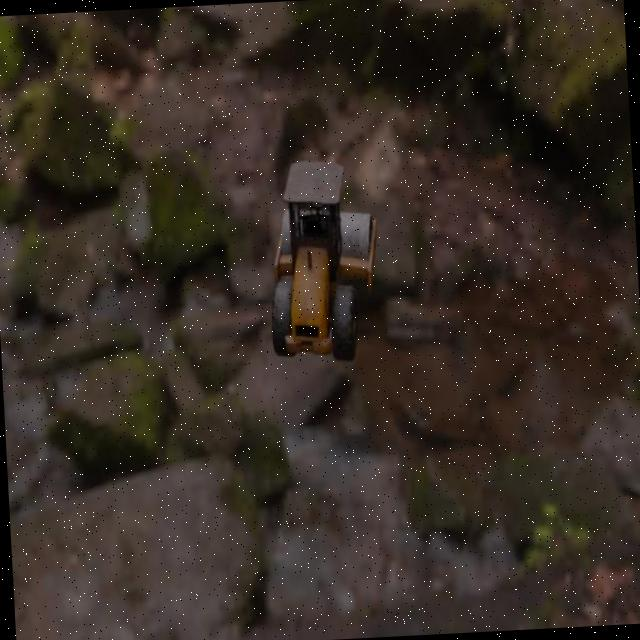Roller: (262, 158, 383, 366)
